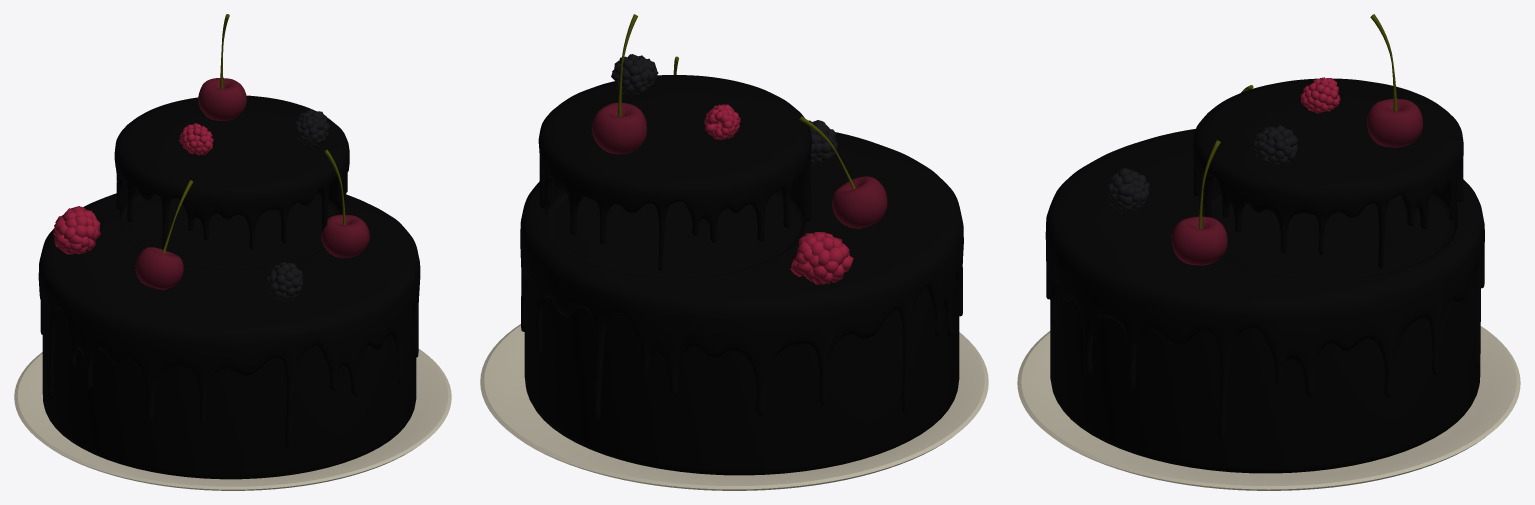
3 renders of one model, left to right at view 1: azimuth 30°, elevation 25°; view 2: azimuth 150°, elevation 25°; view 3: azimuth 270°, elevation 25°, orthographic. The views are drawn at different scales.
Visible parts, largest first — view 1: Choc1, CakeBaseBot.001, Choc2, camera, rasberry.001, Cherry.001, Cherry, Cherry.002, CakeBaseTop.001, BlackBerrry.002, BlackBerrry.065, rasberry; view 2: Choc1, CakeBaseBot.001, Choc2, camera, rasberry.001, CakeBaseTop.001, Cherry.001, Cherry.002, BlackBerrry.065, rasberry, BlackBerrry.002; view 3: Choc1, CakeBaseBot.001, Choc2, camera, Cherry.001, Cherry, CakeBaseTop.001, BlackBerrry.002, BlackBerrry.065, rasberry.
Boxes of the visible parts, bbox=[...] form: Choc1: bbox=[38, 193, 420, 448]; CakeBaseBot.001: bbox=[42, 300, 416, 479]; Choc2: bbox=[114, 95, 349, 250]; camera: bbox=[14, 349, 451, 490]; rasberry.001: bbox=[53, 206, 101, 254]; Cherry.001: bbox=[198, 78, 246, 120]; Cherry: bbox=[321, 214, 369, 257]; Cherry.002: bbox=[135, 247, 183, 289]; CakeBaseTop.001: bbox=[120, 180, 342, 270]; BlackBerrry.002: bbox=[265, 262, 303, 300]; BlackBerrry.065: bbox=[293, 109, 330, 146]; rasberry: bbox=[179, 123, 213, 155]; Choc1: bbox=[520, 132, 963, 420]; CakeBaseBot.001: bbox=[524, 277, 959, 475]; Choc2: bbox=[538, 75, 811, 271]; camera: bbox=[480, 324, 988, 490]; rasberry.001: bbox=[790, 232, 853, 284]; CakeBaseTop.001: bbox=[545, 173, 805, 278]; Cherry.001: bbox=[591, 102, 646, 154]; Cherry.002: bbox=[832, 176, 887, 228]; BlackBerrry.065: bbox=[611, 54, 658, 95]; rasberry: bbox=[703, 104, 740, 139]; BlackBerrry.002: bbox=[809, 120, 837, 165]; Choc1: bbox=[1045, 129, 1484, 439]; CakeBaseBot.001: bbox=[1050, 270, 1480, 473]; Choc2: bbox=[1193, 78, 1463, 268]; camera: bbox=[1017, 326, 1520, 490]; Cherry.001: bbox=[1367, 98, 1422, 147]; Cherry: bbox=[1171, 216, 1227, 265]; CakeBaseTop.001: bbox=[1199, 172, 1457, 279]; BlackBerrry.002: bbox=[1107, 167, 1149, 213]; BlackBerrry.065: bbox=[1252, 125, 1298, 166]; rasberry: bbox=[1300, 77, 1340, 113].
Size of the model in its own units: 6.83 by 6.12 by 6.83.
7 materials, 2 textured.
